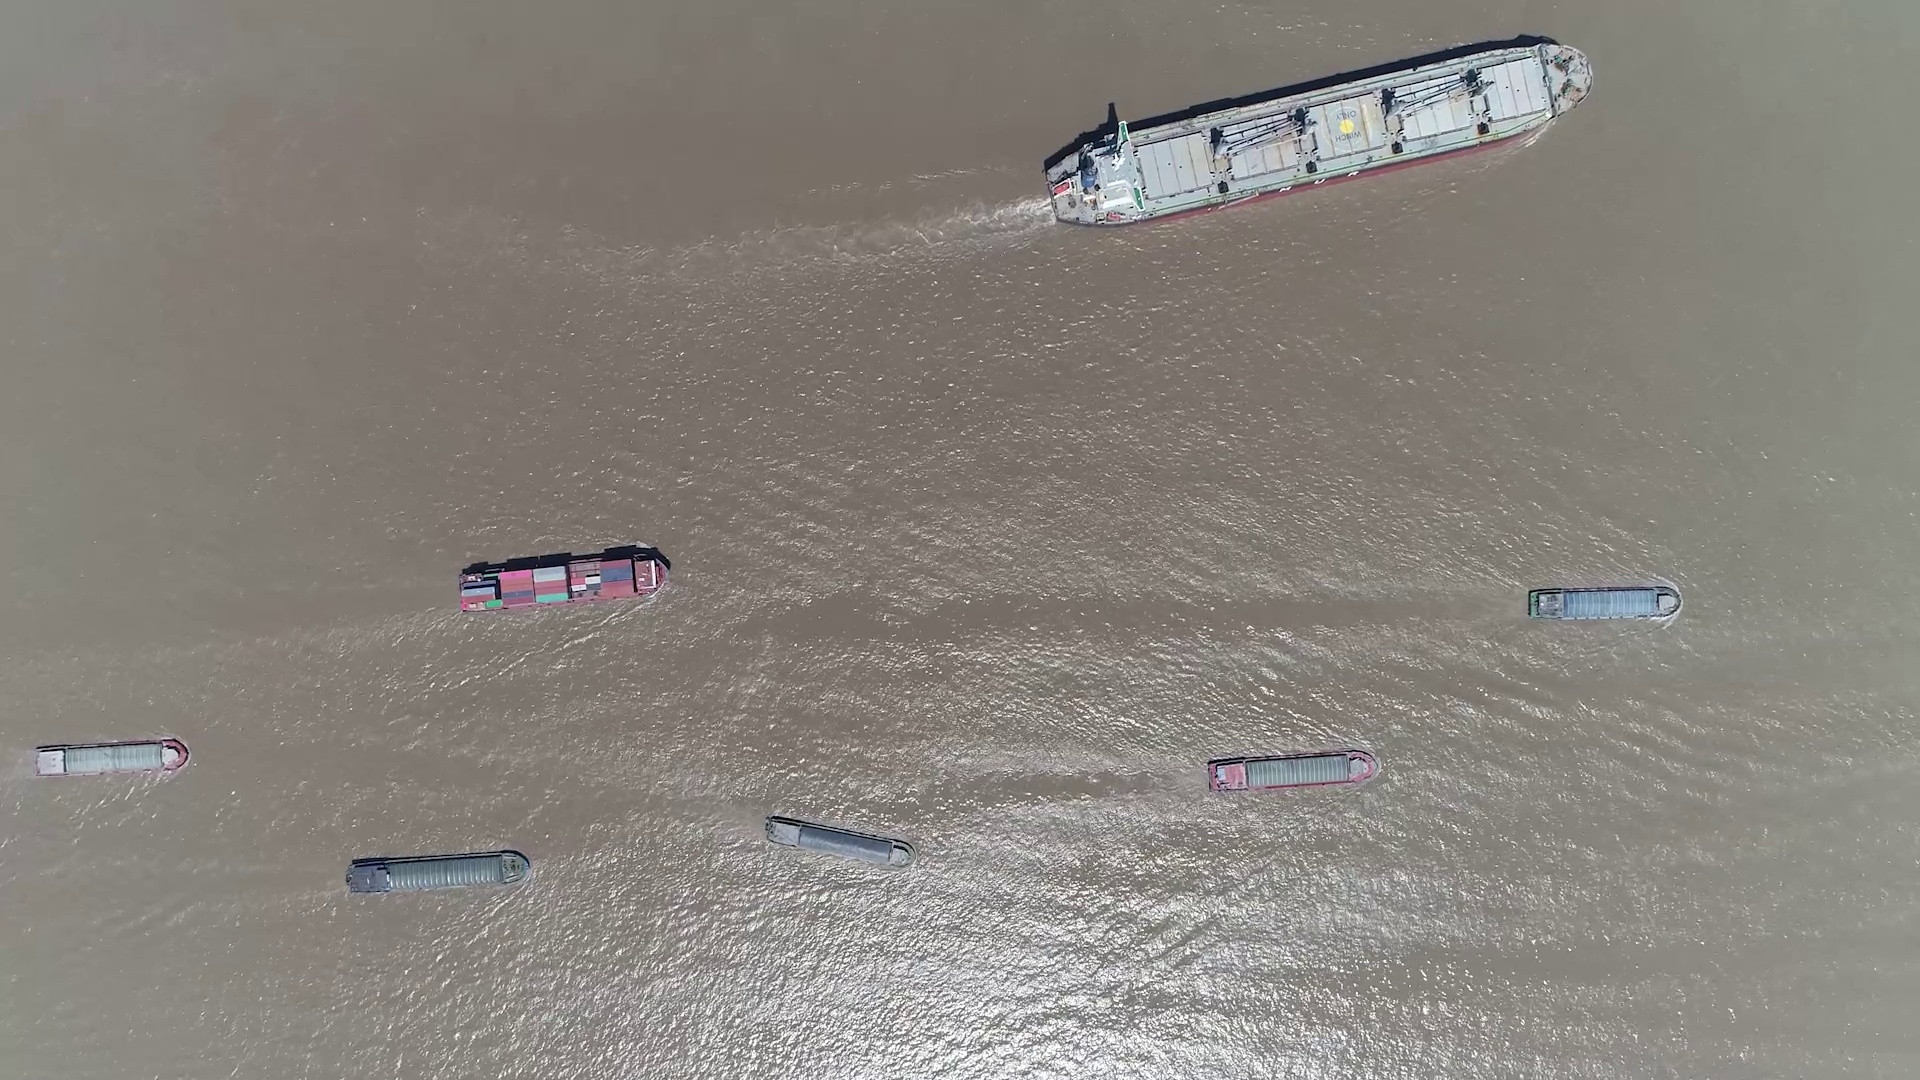ship: (1044, 49, 1590, 227), (458, 550, 670, 613), (347, 851, 530, 893), (764, 815, 913, 866), (1208, 750, 1375, 793), (32, 740, 189, 778), (1528, 585, 1681, 620)
